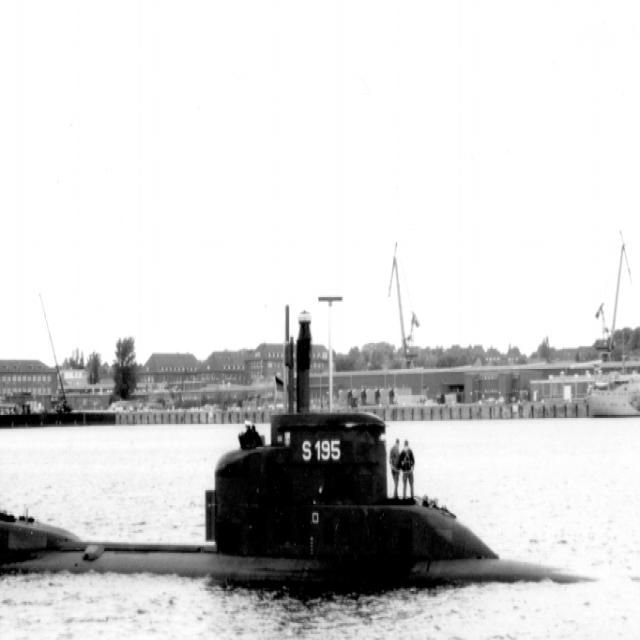submarine: (1, 410, 599, 597)
